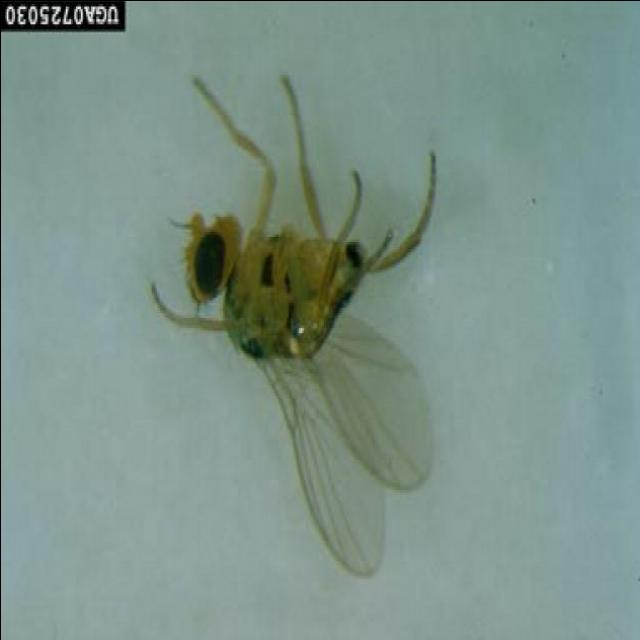Serpentine leafminer: (142, 68, 437, 581)
